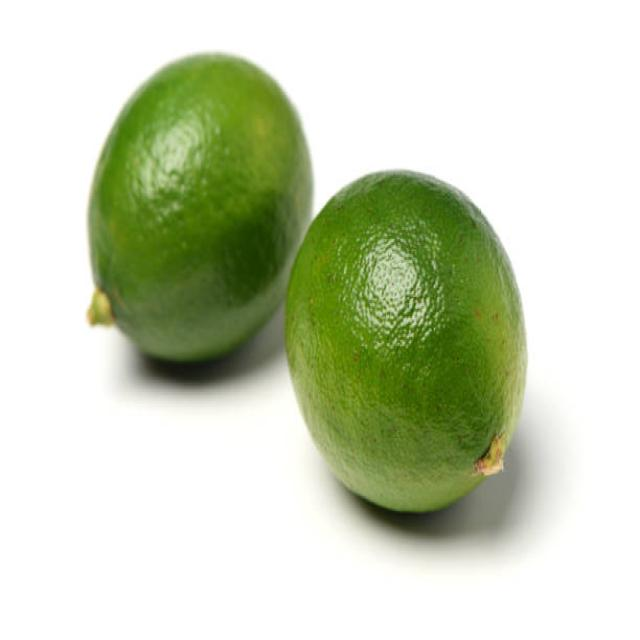Unripe: (284, 166, 528, 519), (86, 49, 312, 362)
